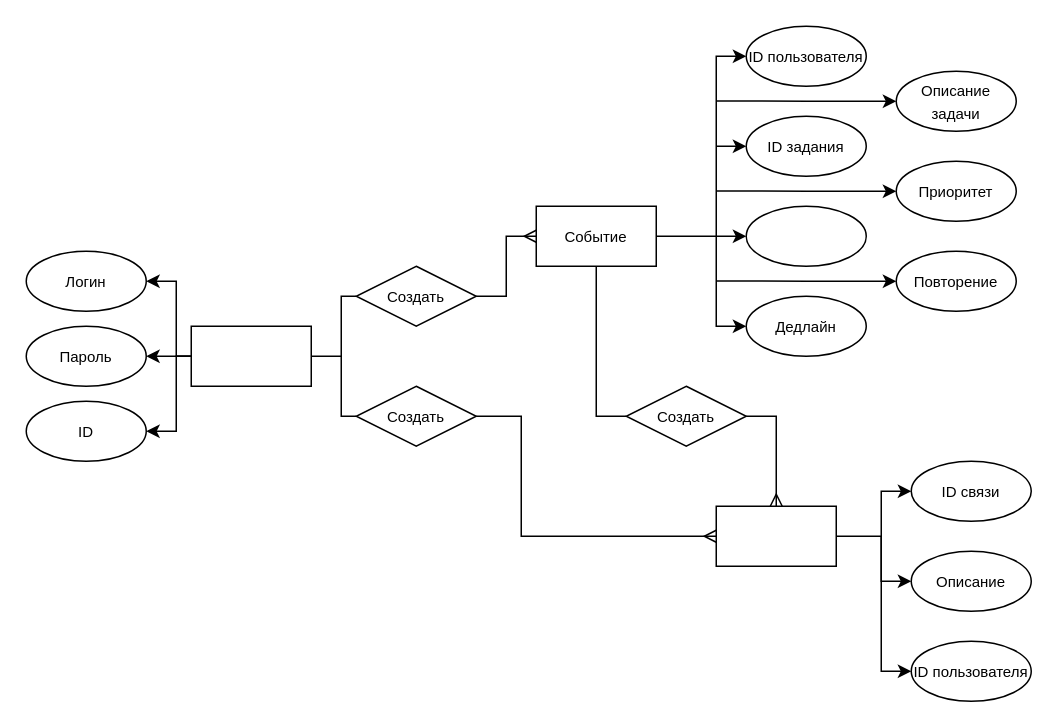
This 1058x728 diagram has some shape labels left out. Each missing label, with the centre of its shape:
Начало выполнения: (x=805, y=235)
Пользователь: (x=250, y=355)
Связь: (x=775, y=535)
